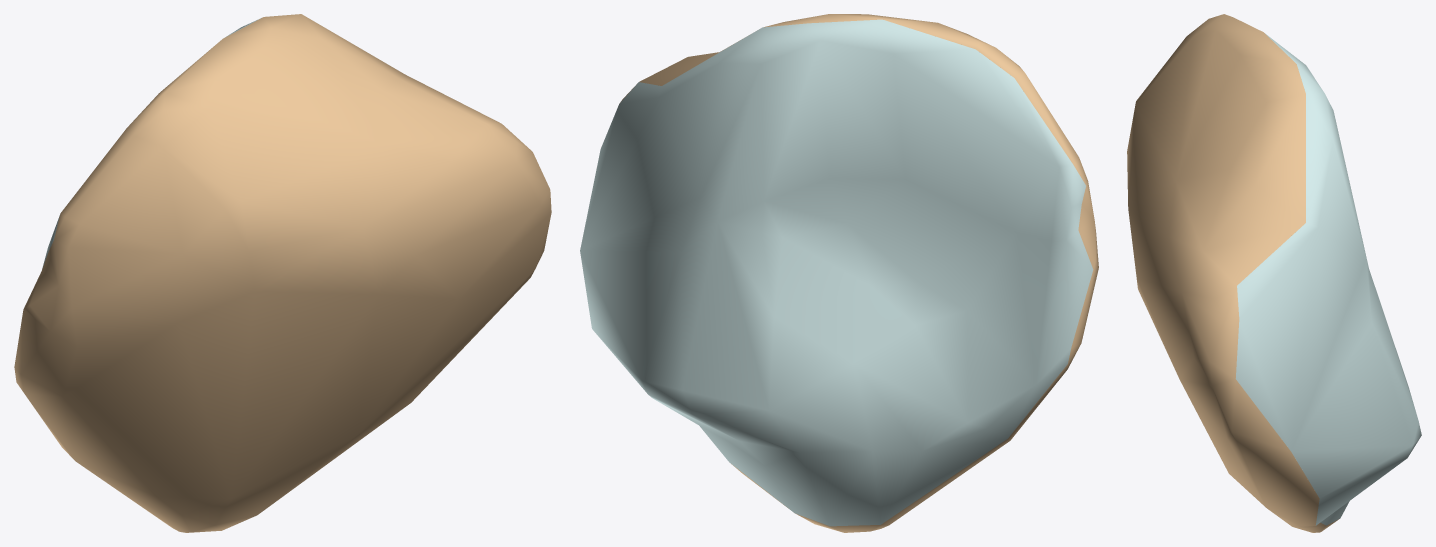
The model's file is Patella.r_Generated_Mesh_From_X3D.277.glb.
3 renders of one model, left to right at view 1: azimuth 30°, elevation 25°; view 2: azimuth 150°, elevation 25°; view 3: azimuth 270°, elevation 25°, orthographic. The views are drawn at different scales.
Visible parts, largest first — view 1: Patella.r_Generated_Mesh_From_X3D.277; view 2: Patella.r_Generated_Mesh_From_X3D.277; view 3: Patella.r_Generated_Mesh_From_X3D.277.
Part boxes in pixels (x1,y1,x2,y2): Patella.r_Generated_Mesh_From_X3D.277: [14, 14, 551, 532]; Patella.r_Generated_Mesh_From_X3D.277: [580, 14, 1098, 532]; Patella.r_Generated_Mesh_From_X3D.277: [1127, 14, 1421, 532].
Size of the model in its own units: 0.0432 by 0.0409 by 0.0228.
